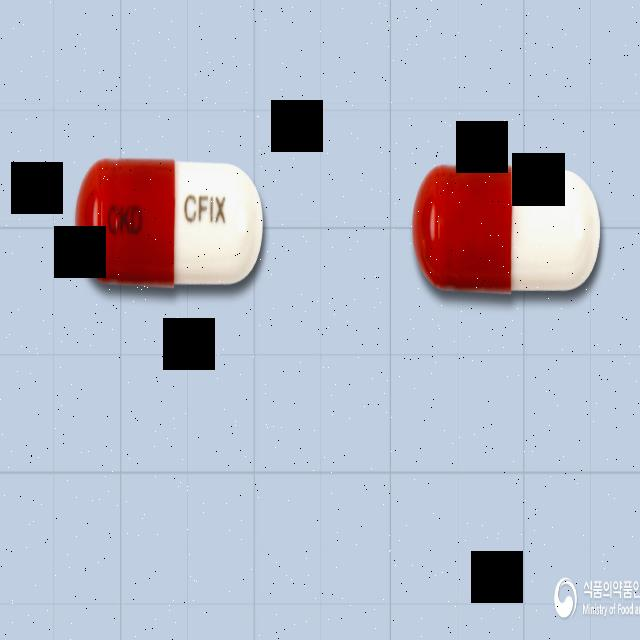Pocef Cap: (76, 156, 264, 288)
